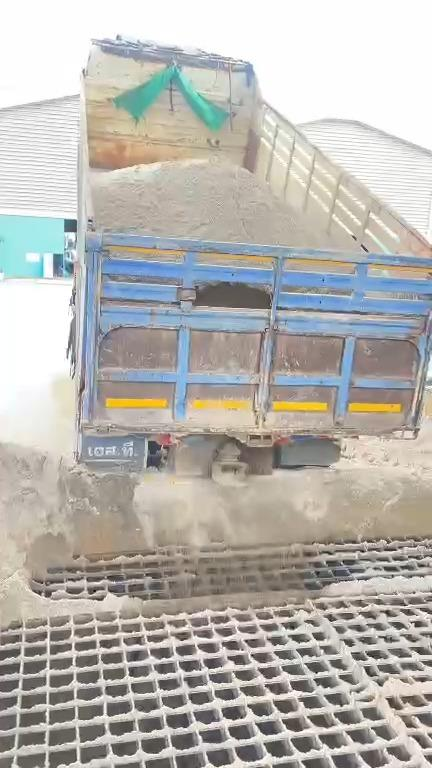gravel: (0, 421, 431, 625), (96, 161, 331, 246), (324, 566, 431, 602), (384, 673, 431, 692)
